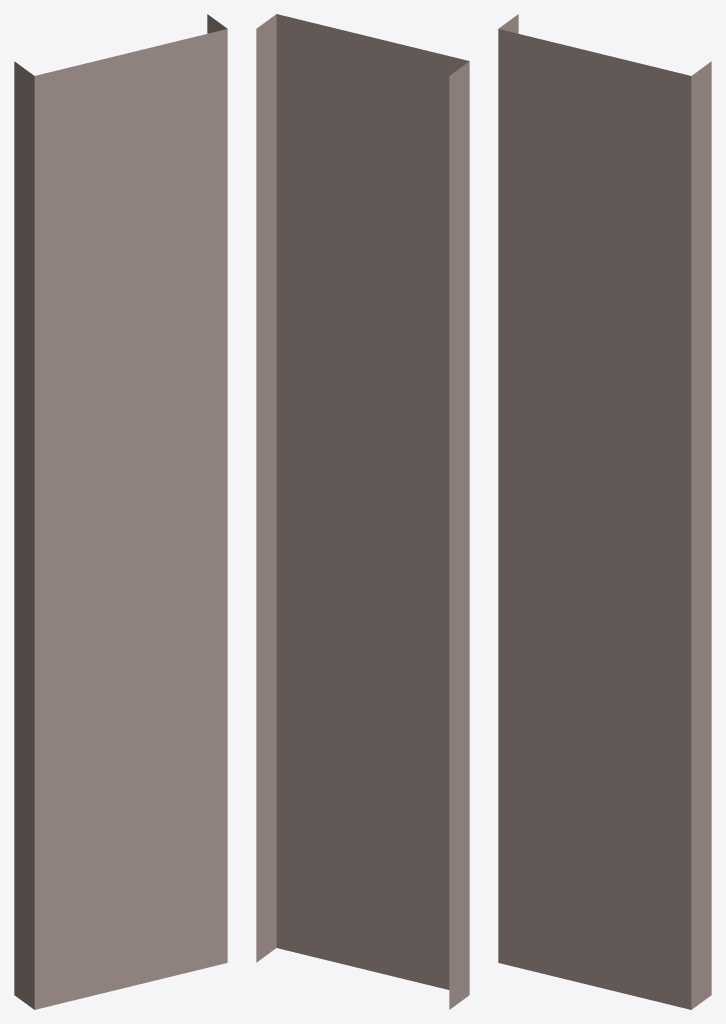
The model's file is pillar_M.fbx.
The picture shows the model from 3 angles, left to right: view 1: azimuth 30°, elevation 25°; view 2: azimuth 150°, elevation 25°; view 3: azimuth 330°, elevation 25°; orthographic projection.
Parts seen in each view (by area): view 1: pillar_m; view 2: pillar_m; view 3: pillar_m.
Part boxes in pixels (<box>): pillar_m: <box>14,14,227,1009</box>; pillar_m: <box>256,14,469,1009</box>; pillar_m: <box>498,14,711,1009</box>.
Size of the model in its own units: 75.82 by 350 by 13.81.
